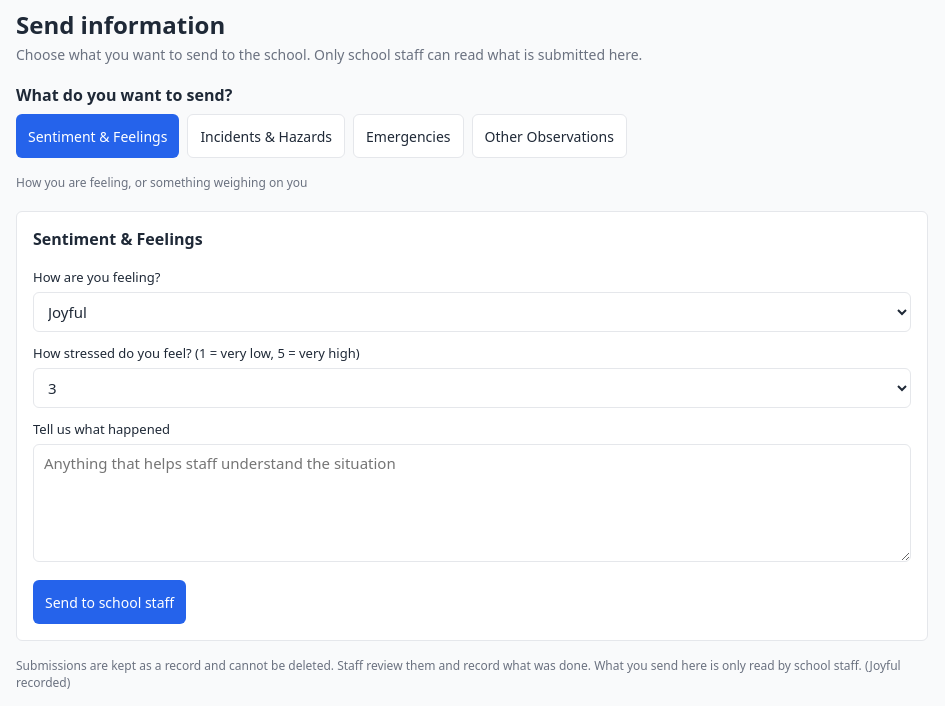
Test: Submit › sends emergencies to the SOS flow instead of the form
Click the button "Emergencies" at coordinates (408, 136), box [353,114,464,158]
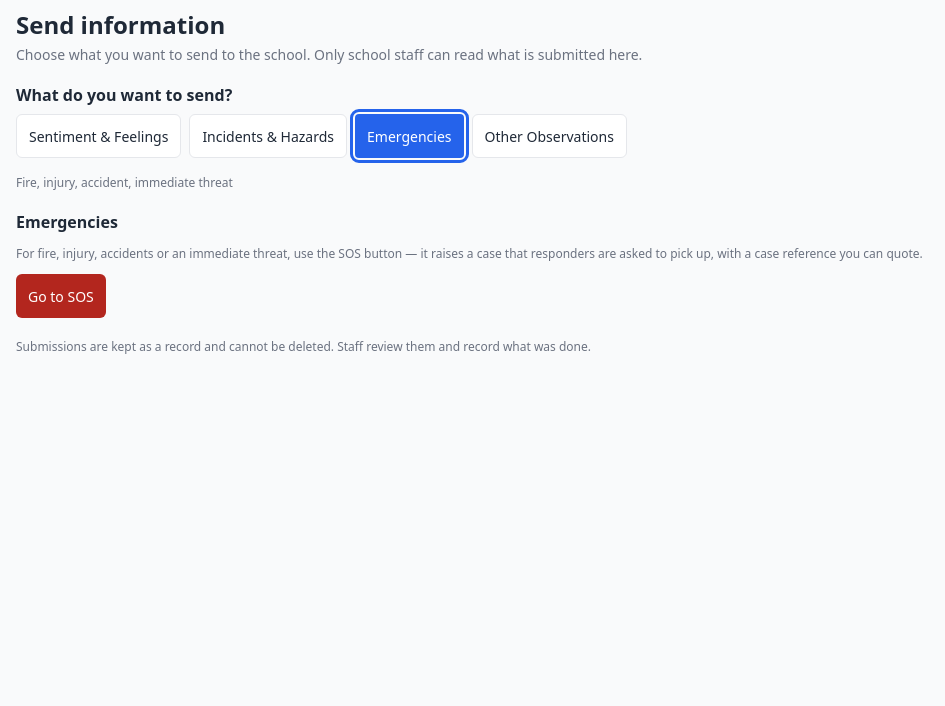
Expected: the button "Go to SOS" is shown, [16,274,106,318]
